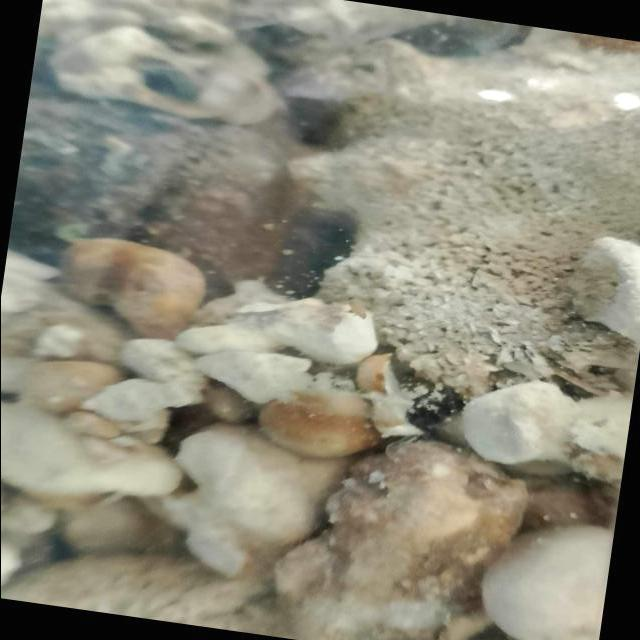General: (4, 4, 638, 638)
